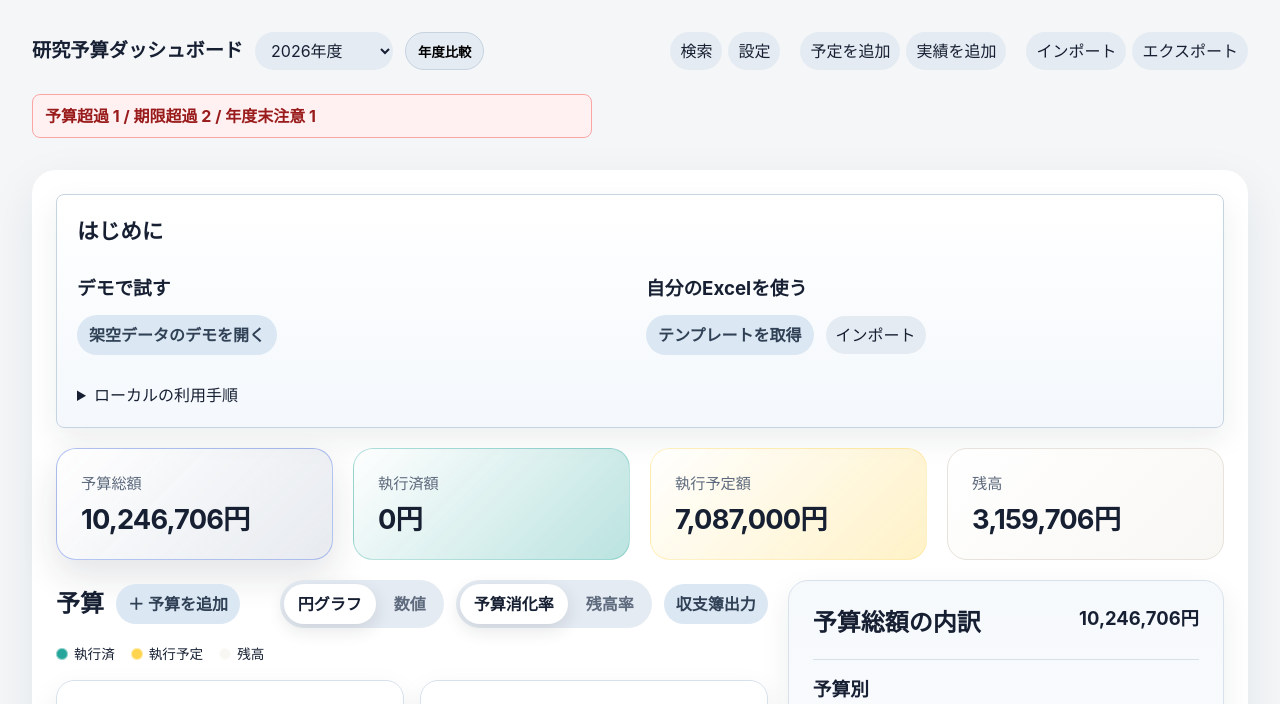
Test case: header alerts › shows primary alert counts in a header bar and opens linked details
Click the button "予算超過 1 / 期限超過 2 / 年度末注意 1".
click(312, 116)  # box x1=32 y1=94 x2=592 y2=138
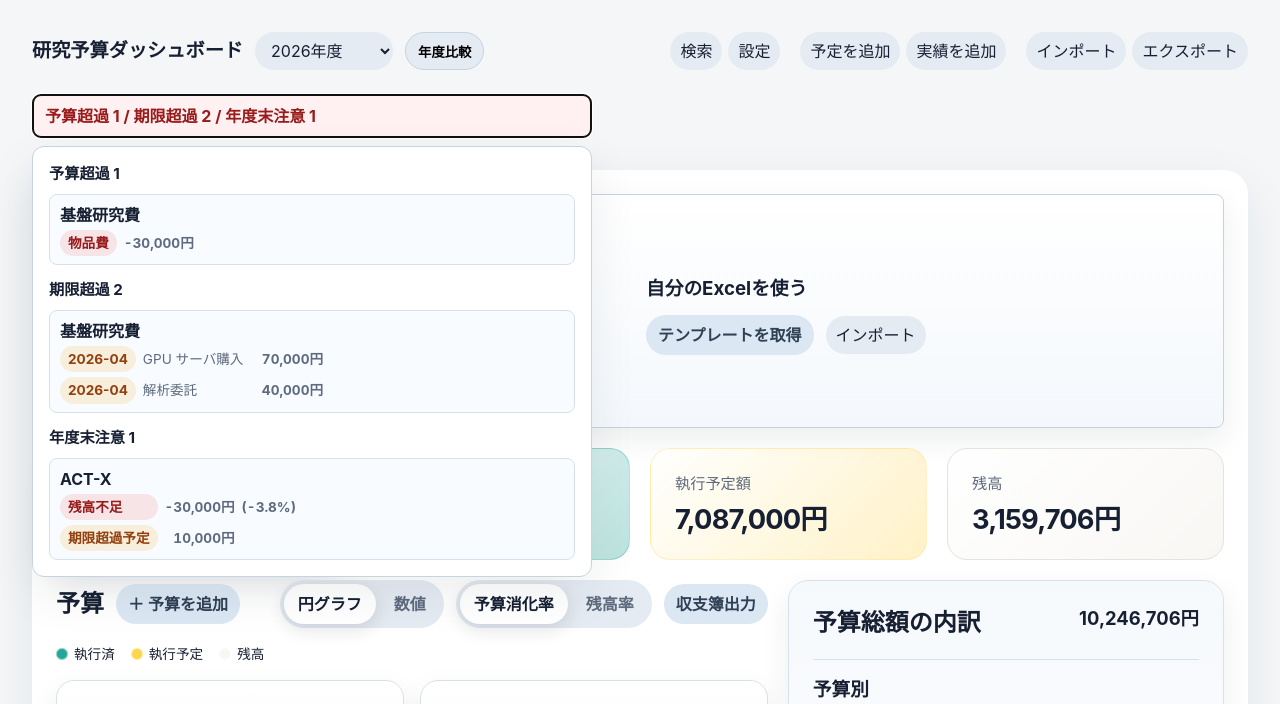
expect the button "予算超過 1 / 期限超過 2 / 年度末注意 1" is expanded: met, box x1=32 y1=94 x2=592 y2=138
expect the heading "予算超過 1" is shown: met, box x1=49 y1=164 x2=120 y2=183
expect the text "物品費" is shown: met, box x1=60 y1=230 x2=117 y2=256
